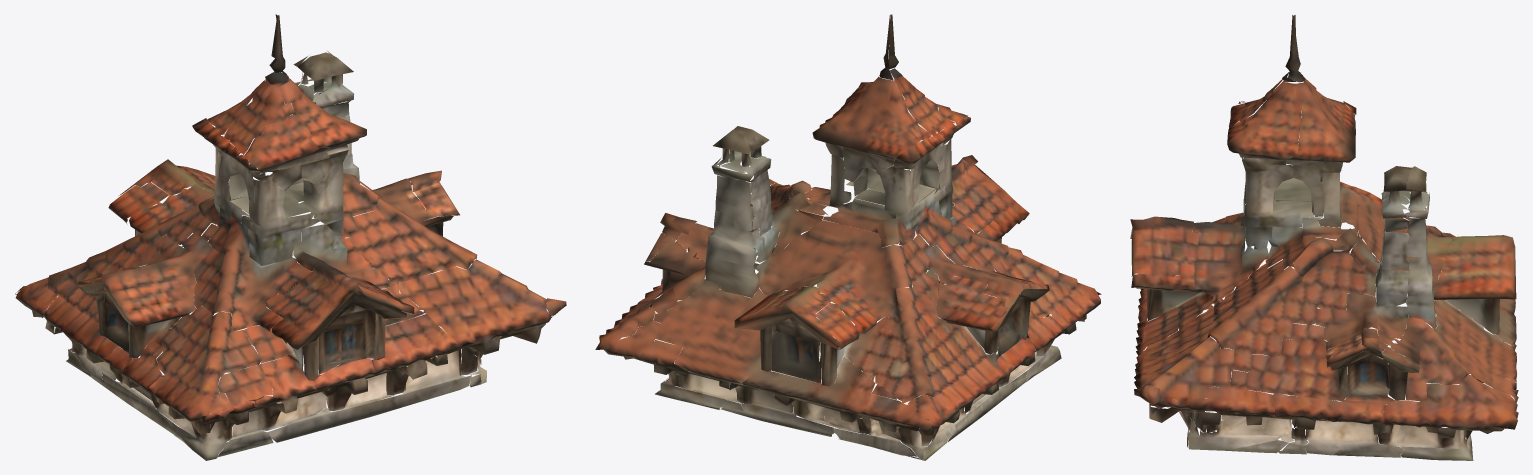
File: Piece04.glb
The picture shows the model from 3 angles, left to right: view 1: azimuth 30°, elevation 25°; view 2: azimuth 150°, elevation 25°; view 3: azimuth 270°, elevation 25°; orthographic projection. The views are drawn at different scales.
Visible parts, largest first — view 1: Eldoria_MultiPiece_Group_04; view 2: Eldoria_MultiPiece_Group_04; view 3: Eldoria_MultiPiece_Group_04.
Part boxes in pixels (box(x1,y1,x2,y2)): Eldoria_MultiPiece_Group_04: box(15, 14, 566, 460); Eldoria_MultiPiece_Group_04: box(595, 14, 1101, 460); Eldoria_MultiPiece_Group_04: box(1130, 15, 1518, 460).
Bounding box in the file's own units: 0.3248 × 0.3147 × 0.2964.
Materials: 1 (1 with a texture image).
